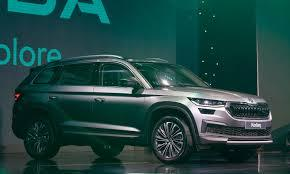skoda: (245, 96, 257, 106)
